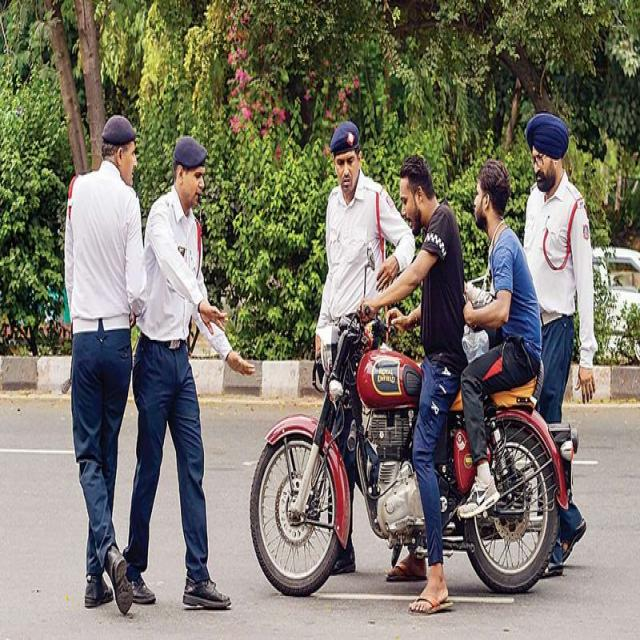motorcycle: (253, 303, 578, 598)
